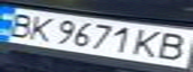1: (109, 24, 136, 55)
6: (69, 20, 97, 50)
7: (90, 21, 115, 53)
9: (51, 17, 78, 46)
B: (151, 29, 193, 62), (0, 10, 39, 38)
K: (130, 27, 166, 60), (21, 12, 57, 43)
